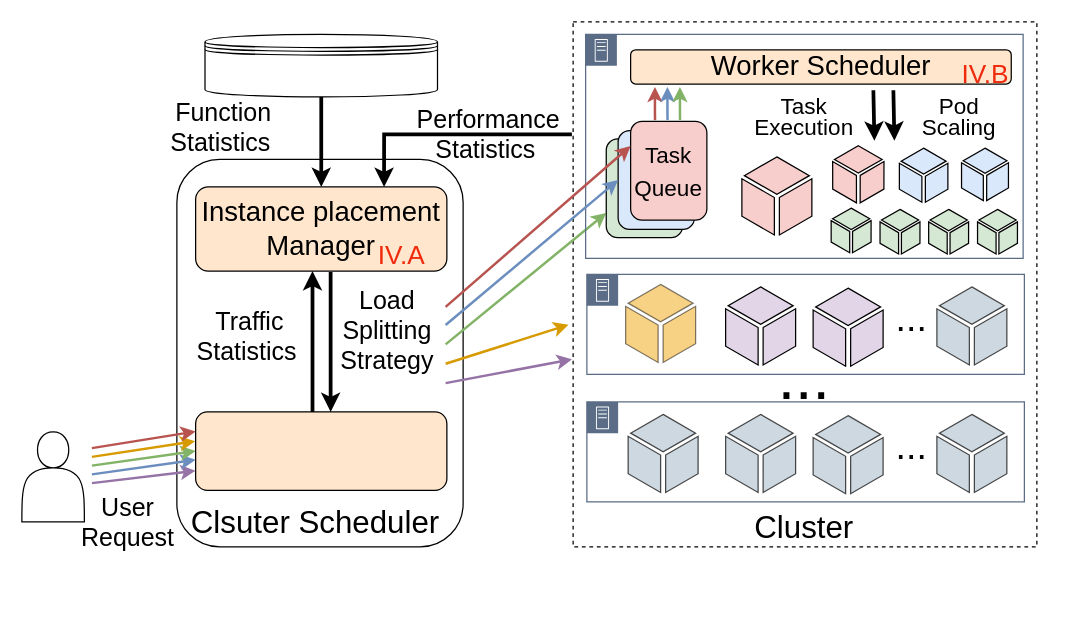
Image size: 1070x624. Some labels were removed from this diagram. Here are the shapes that lost their labels. From the top down, the centre of each, then its label:
At point 321,65: "Function Metadata".
At point 320,450: "Task Dispatcher".
